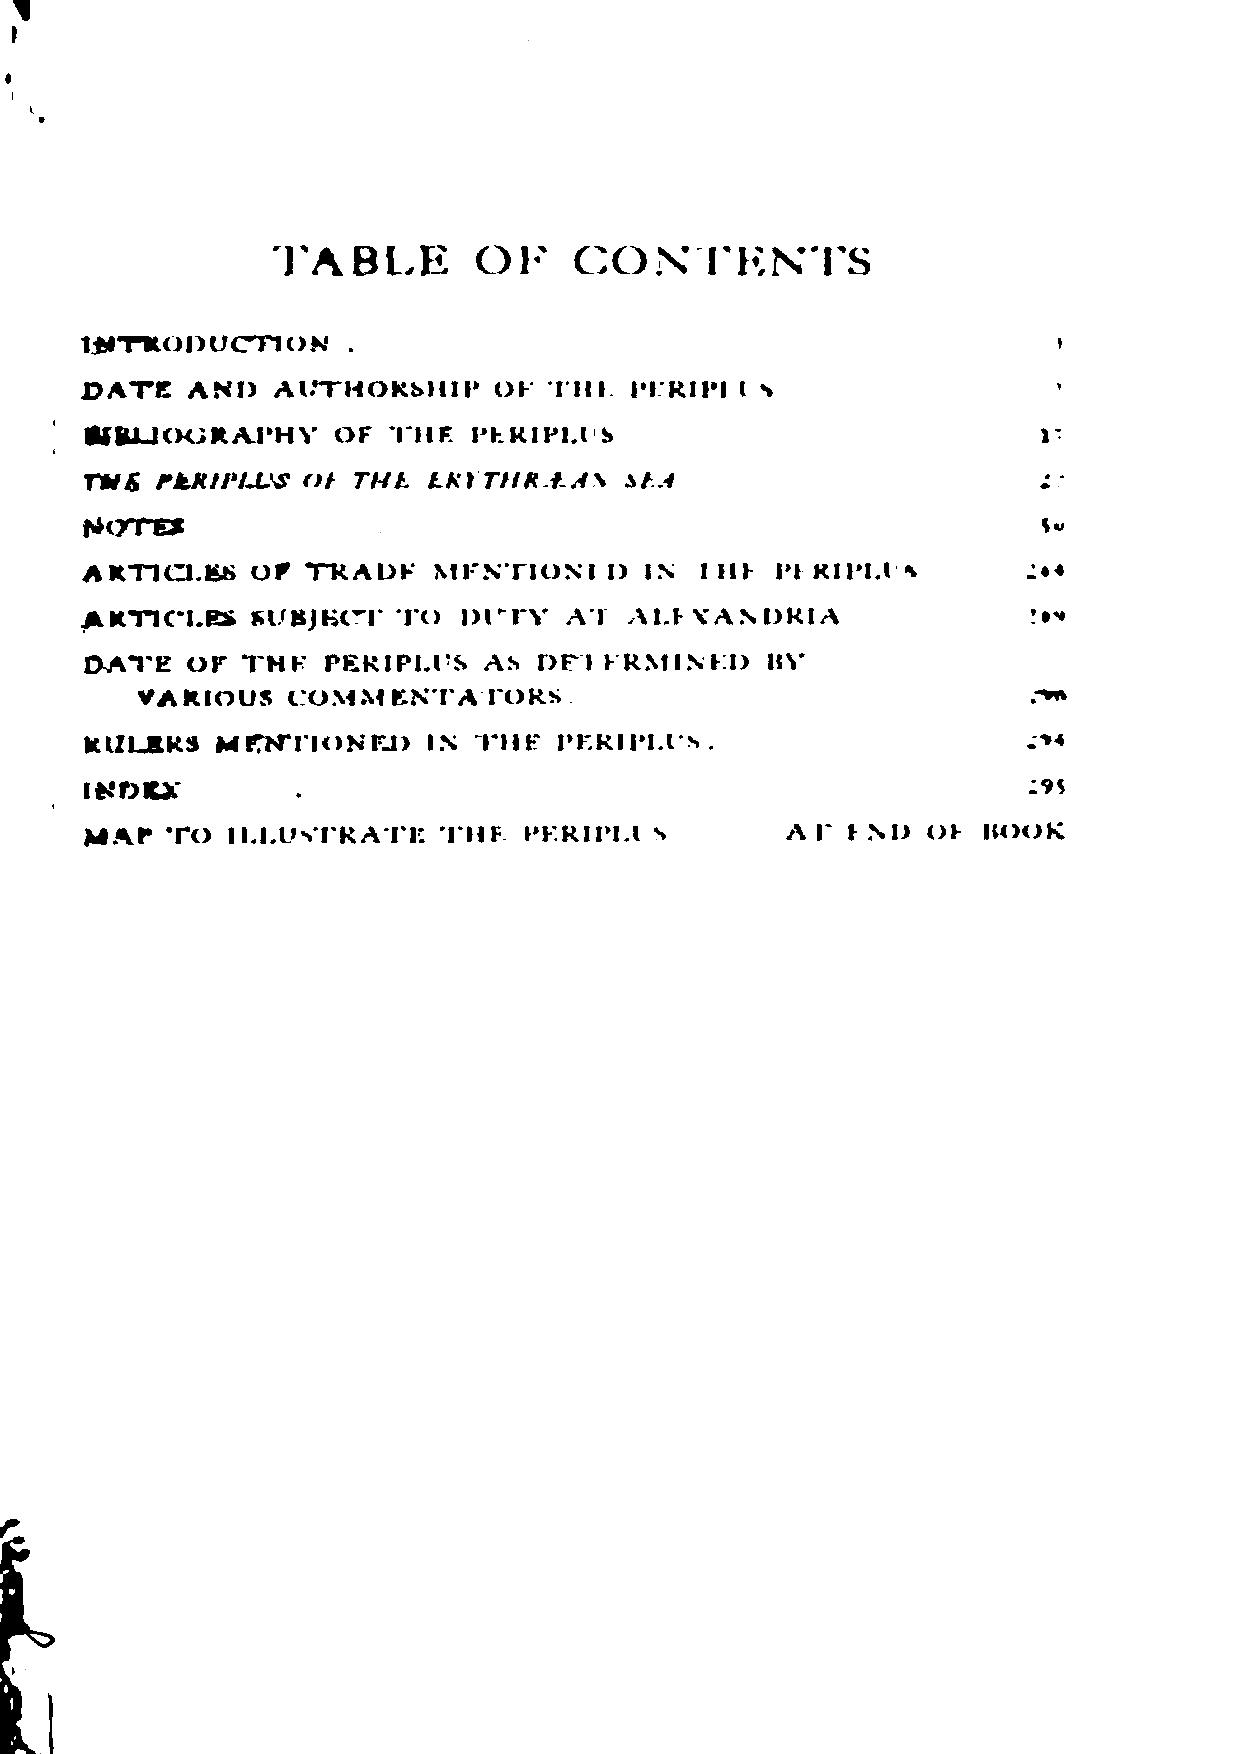TOC_chapter: (83, 652, 805, 709), (81, 607, 839, 633), (81, 558, 917, 581), (81, 376, 776, 400), (79, 820, 672, 848), (82, 731, 718, 756), (82, 417, 613, 446), (83, 470, 676, 491), (82, 331, 334, 356), (82, 514, 185, 538), (81, 776, 183, 800)
TOC_pagenumber: (778, 819, 1066, 844), (1021, 552, 1066, 584), (1023, 729, 1068, 752), (1027, 603, 1068, 627), (1025, 774, 1067, 797), (1027, 683, 1068, 705), (1031, 421, 1066, 447), (1035, 466, 1067, 491), (1037, 513, 1066, 537), (1052, 333, 1067, 354), (1052, 378, 1066, 391)
chapter: (271, 243, 870, 278)
